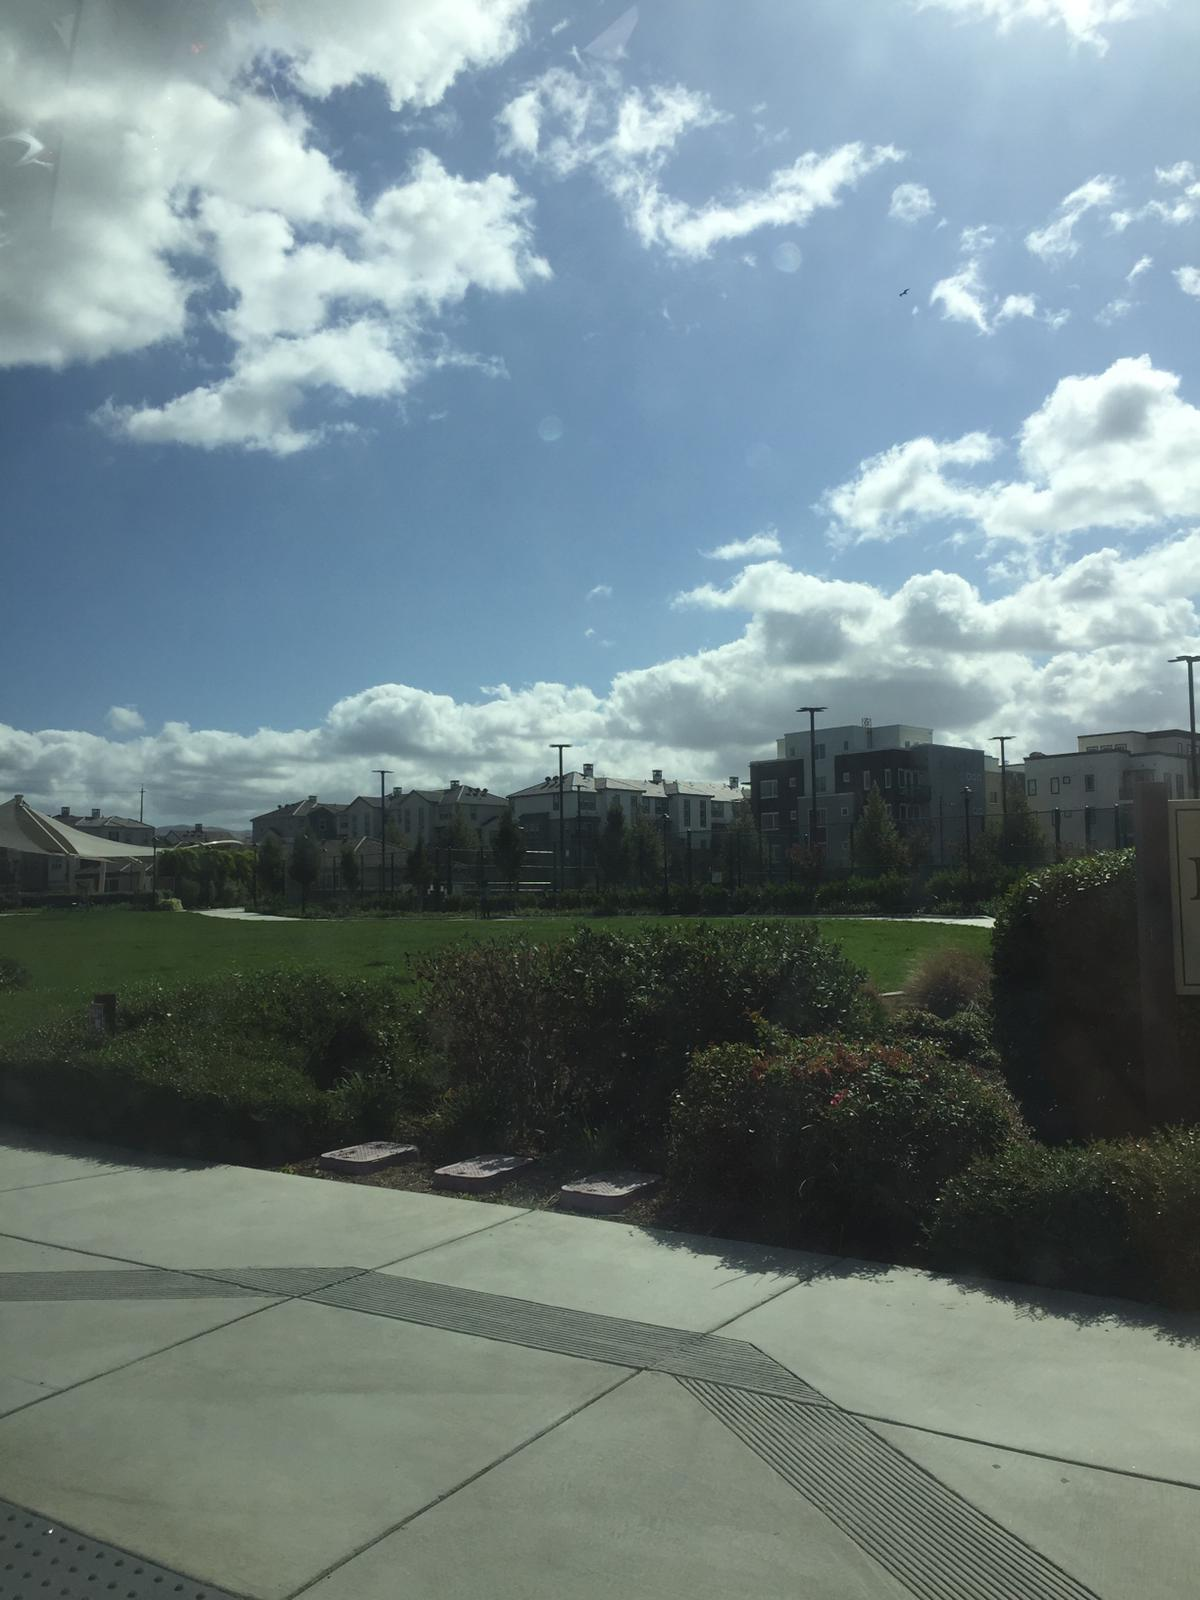plants: (153, 936, 1015, 1170), (984, 826, 1181, 1136), (1018, 1143, 1200, 1288), (674, 1177, 1015, 1254)
